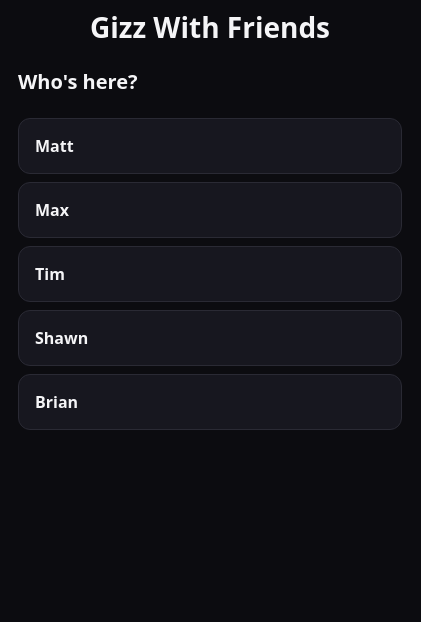
SignInScreen — name-picker + password (AUTH-01 / D-01/D-03/D-18) › a wrong password renders the GENERIC 'Invalid login credentials' inline — no enumeration
The width and height of the screenshot is (421, 622).
Click the button "Matt" at point(54, 146), box [18,118,402,174]
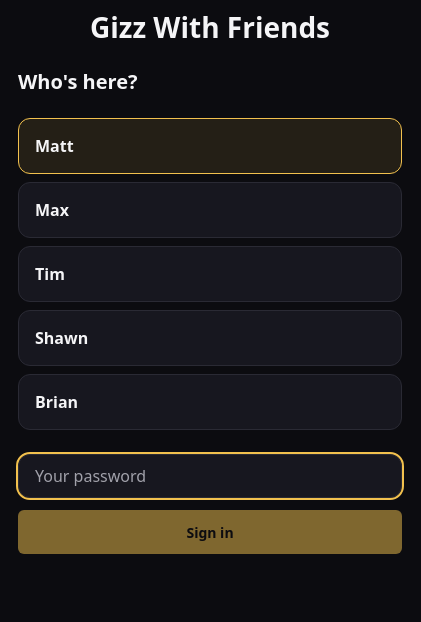
Type "wrong-pw" into the password field with placeholder "Your password" at point(210, 476), box [18,454,402,498]
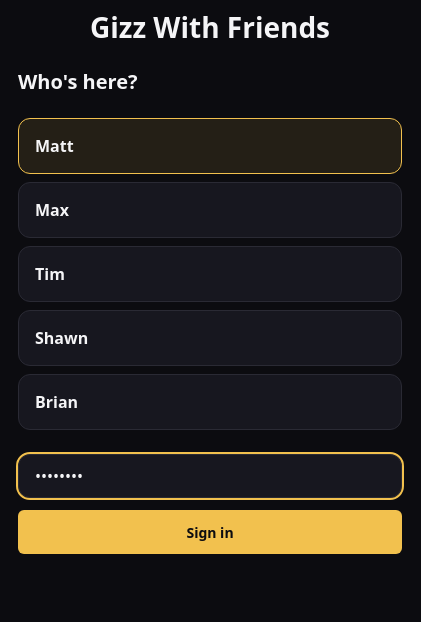
Click the button "Sign in" at point(210, 532), box [18,510,402,554]
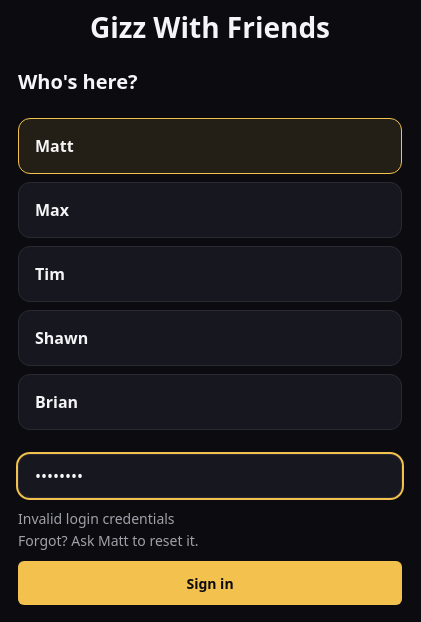
Result: the text "Invalid login credentials" is shown at [18,509,175,528]
Result: the text "Forgot? Ask Matt to reset it." is shown at [18,530,199,550]
